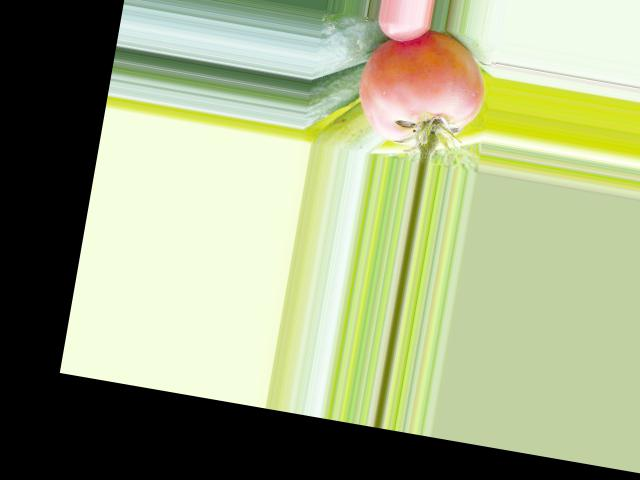tomato: (351, 19, 493, 154)
